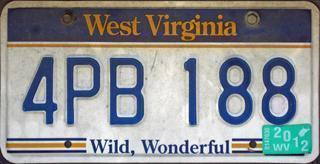placa de veiculo: (3, 3, 317, 160)
